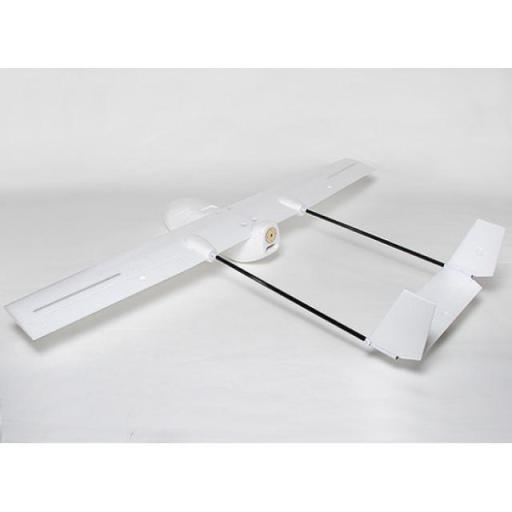uav: (5, 156, 512, 370)
